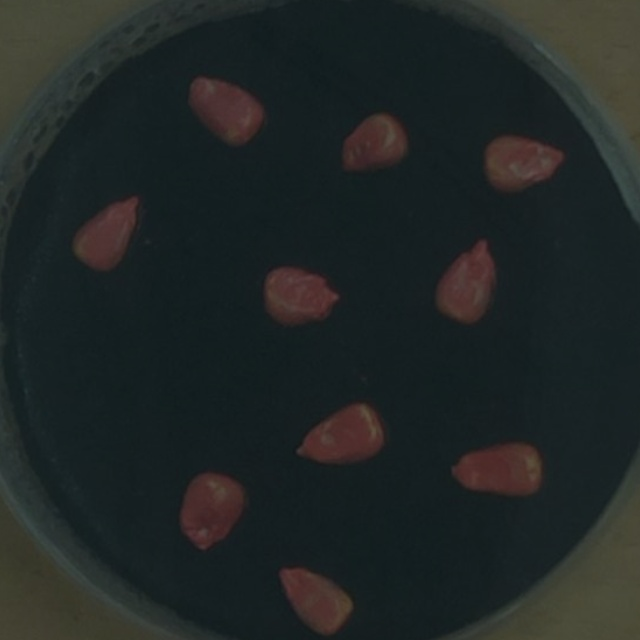Zea mays: (284, 391, 394, 475), (176, 67, 272, 156), (62, 185, 150, 281), (425, 231, 505, 332), (441, 433, 552, 505), (170, 465, 253, 561), (252, 256, 346, 337), (476, 127, 575, 202), (268, 559, 360, 639), (329, 105, 418, 184)
